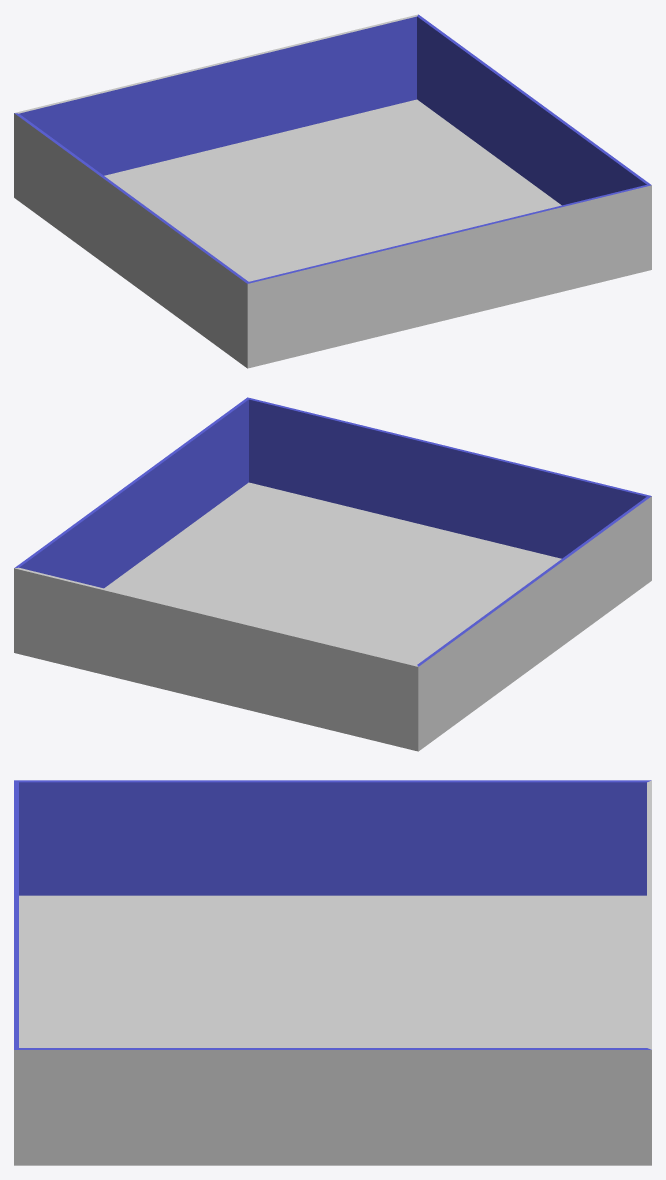
File: stage.gltf
The picture shows the model from 3 angles, top to bottom: view 1: azimuth 30°, elevation 25°; view 2: azimuth 150°, elevation 25°; view 3: azimuth 270°, elevation 25°; orthographic projection. The views are drawn at different scales.
Visible parts, largest first — view 1: Cube; view 2: Cube; view 3: Cube.
Boxes of the visible parts, x1,y1,x2,y2 form: Cube: (14, 14, 651, 368); Cube: (14, 397, 651, 751); Cube: (14, 780, 651, 1165).
Size of the model in its own units: 20 by 4 by 20.
